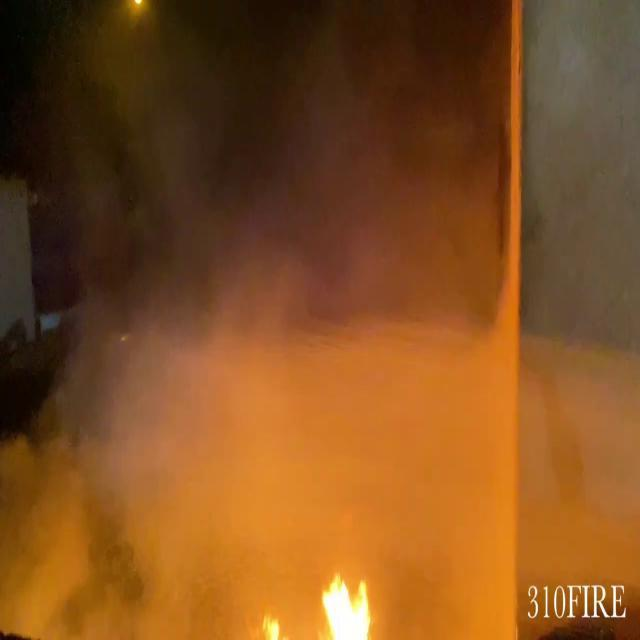Fire: (262, 567, 386, 639)
Smoke: (2, 0, 524, 628)
